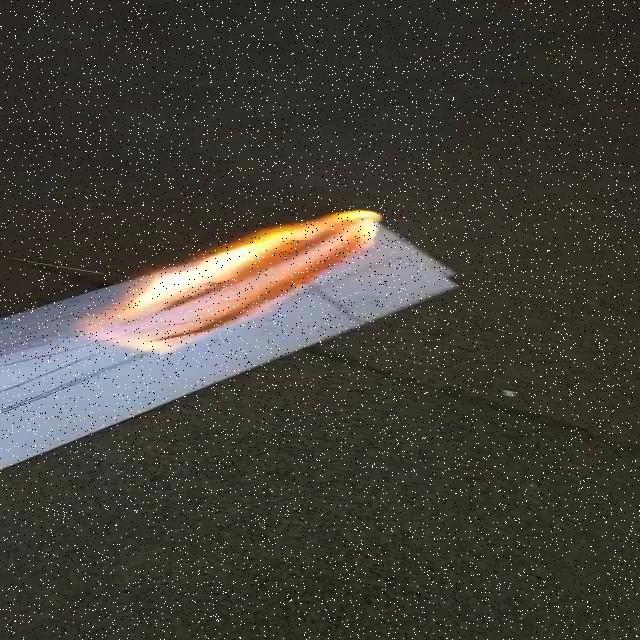fire: (90, 203, 393, 349)
